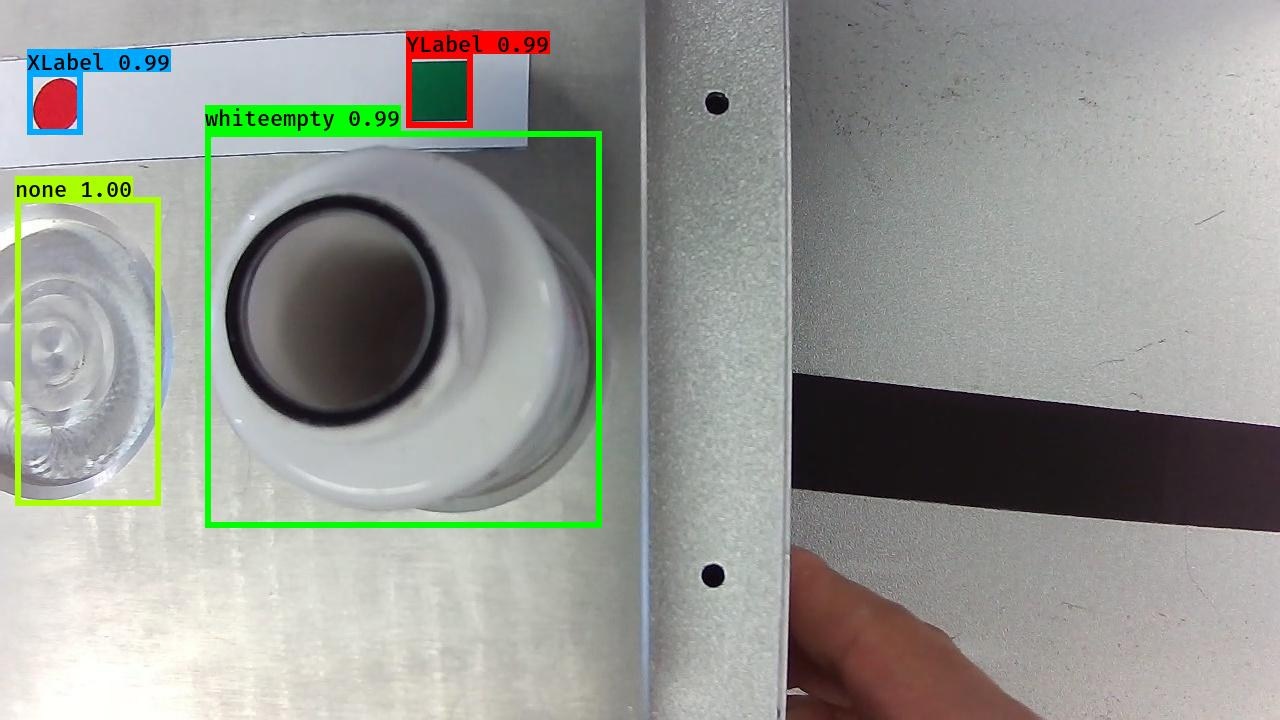XLabel: (28, 75, 84, 136)
YLabel: (406, 56, 473, 127)
none: (1, 186, 180, 502)
whiteempty: (200, 148, 614, 519)
